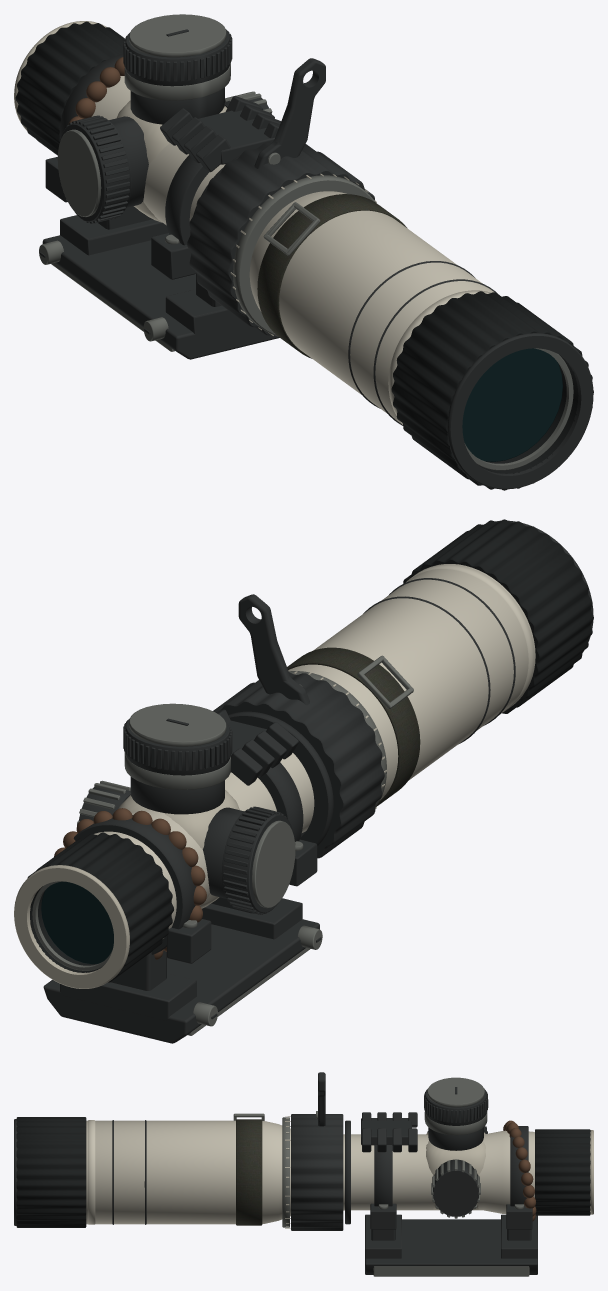
Rendered from web.glb.
3 renders of one model, top to bottom at view 1: azimuth 30°, elevation 25°; view 2: azimuth 150°, elevation 25°; view 3: azimuth 270°, elevation 25°, orthographic. The views are drawn at different scales.
Visible parts, largest first — view 1: Windage grip tooth.017__asset.001; view 2: Windage grip tooth.017__asset.001; view 3: Windage grip tooth.017__asset.001.
Boxes of the visible parts, x1=… form: Windage grip tooth.017__asset.001: x1=14, y1=14, x2=593, y2=490; Windage grip tooth.017__asset.001: x1=14, y1=519, x2=593, y2=1043; Windage grip tooth.017__asset.001: x1=14, y1=1072, x2=593, y2=1276.
Size of the model in its own units: 0.4652 by 0.7432 by 2.
15 materials, 1 textured.
